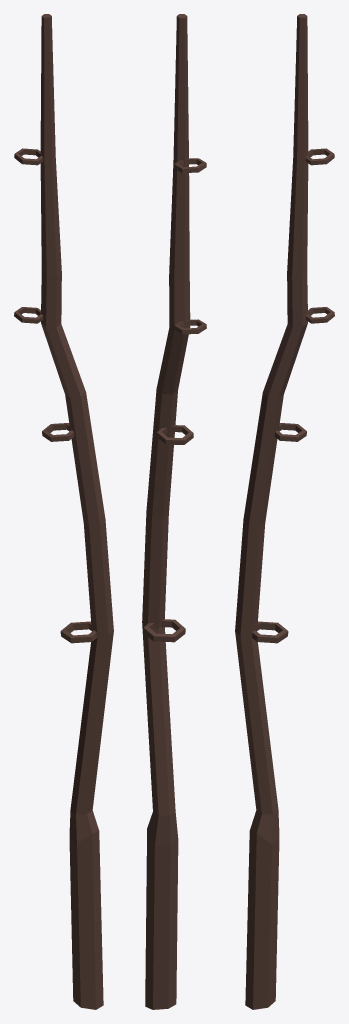
Rendered from fishing_rod.glb.
3 views of the same model, side by side, from view 1: azimuth 90°, elevation 25°; view 2: azimuth 210°, elevation 25°; view 3: azimuth 270°, elevation 25° (orthographic).
Visible parts, largest first — view 1: fishing_rod; view 2: fishing_rod; view 3: fishing_rod.
Part boxes in pixels (x1,y1,x2,y2): fishing_rod: (14, 14, 113, 1009); fishing_rod: (142, 14, 206, 1009); fishing_rod: (235, 14, 334, 1009).
Size of the model in its own units: 0.0661 by 2 by 0.183.
